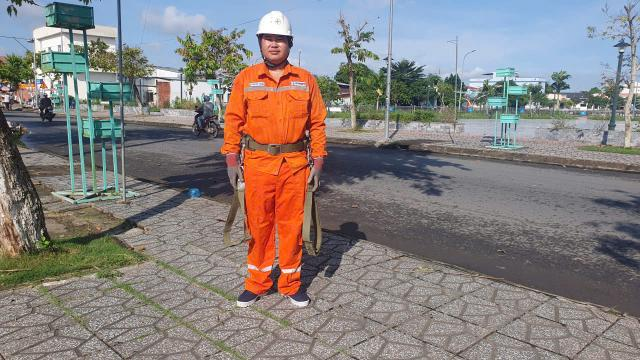gloves: (221, 154, 251, 192), (298, 156, 326, 196)
harness: (236, 124, 312, 160)
helmet: (253, 1, 296, 41)
shoes: (270, 278, 317, 310), (228, 282, 266, 310)
